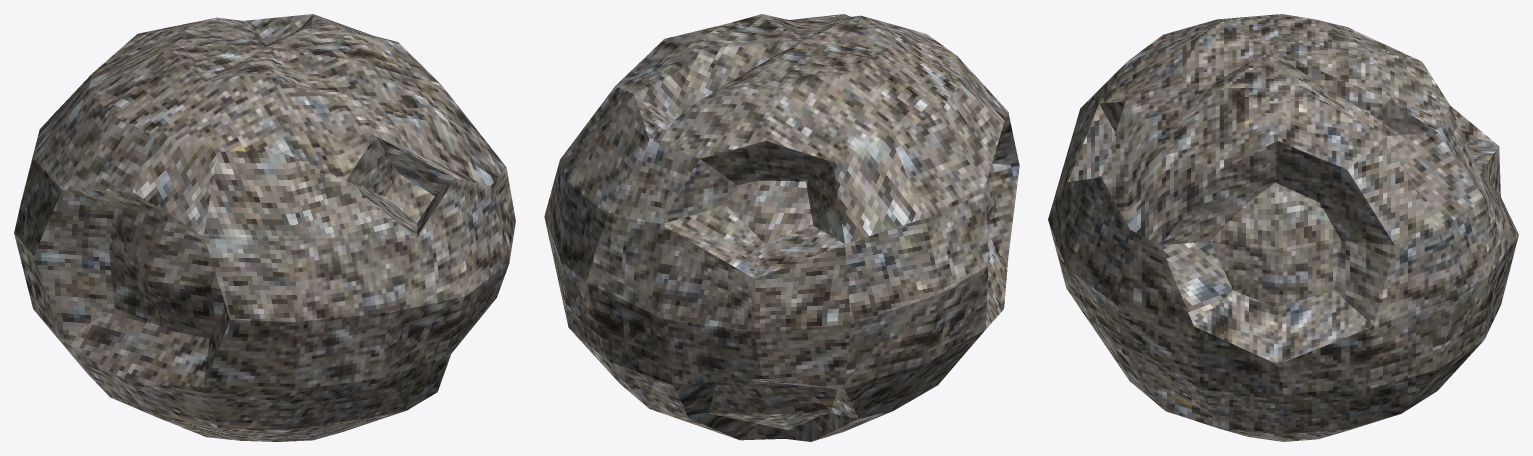
File: meteorite.fbx
3 renders of one model, left to right at view 1: azimuth 30°, elevation 25°; view 2: azimuth 150°, elevation 25°; view 3: azimuth 270°, elevation 25°, orthographic. The views are drawn at different scales.
Visible parts, largest first — view 1: Sphere; view 2: Sphere; view 3: Sphere.
Boxes of the visible parts, x1=… form: Sphere: x1=14, y1=14, x2=515, y2=441; Sphere: x1=544, y1=14, x2=1019, y2=441; Sphere: x1=1048, y1=14, x2=1518, y2=441.
Bounding box in the file's own units: 196 × 167 × 196.
